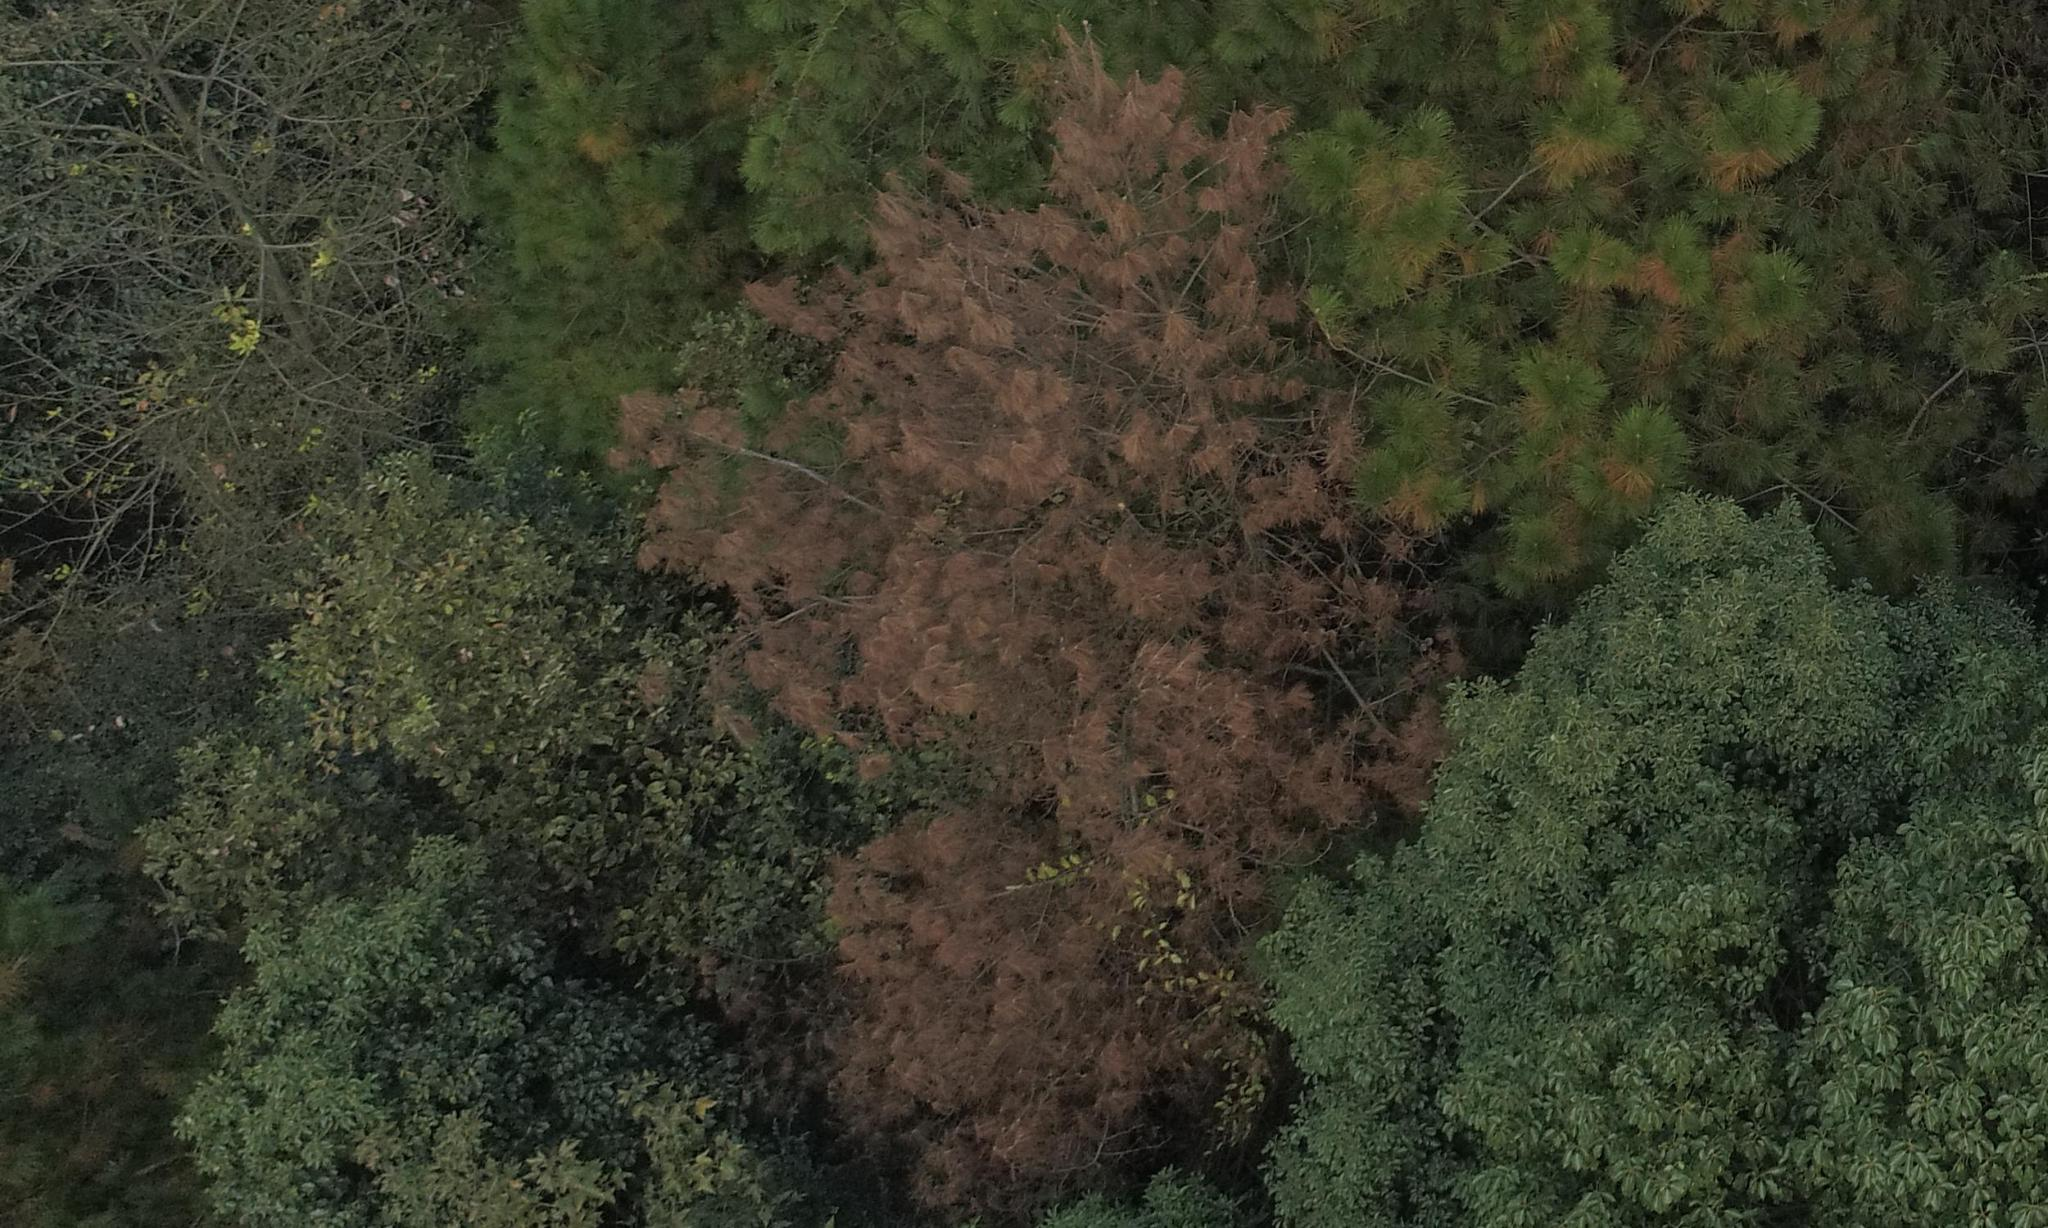heavy: (598, 63, 1319, 1168)
light: (1354, 23, 1855, 513)
